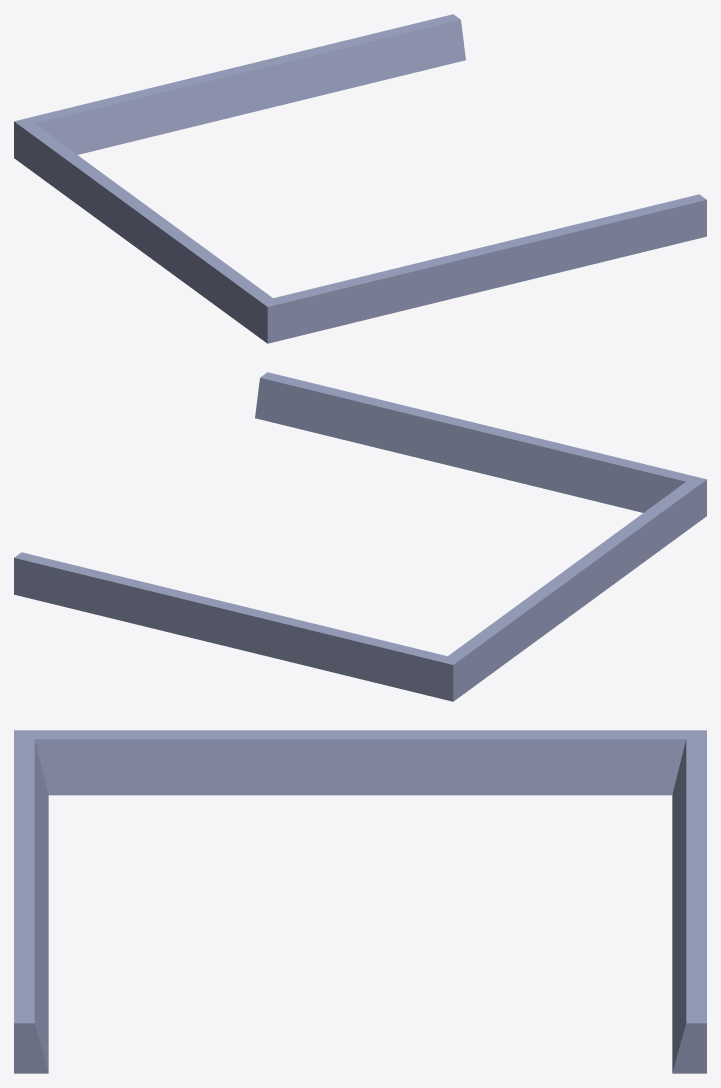
File: road-end-barrier.fbx
3 renders of one model, top to bottom at view 1: azimuth 30°, elevation 25°; view 2: azimuth 150°, elevation 25°; view 3: azimuth 270°, elevation 25°, orthographic. The views are drawn at different scales.
Parts seen in each view (by area): view 1: road-end-barrier; view 2: road-end-barrier; view 3: road-end-barrier.
Boxes of the visible parts, bbox=[...] form: road-end-barrier: bbox=[14, 14, 706, 343]; road-end-barrier: bbox=[14, 372, 706, 701]; road-end-barrier: bbox=[14, 730, 706, 1073].
Size of the model in its own units: 100 by 8 by 100.
